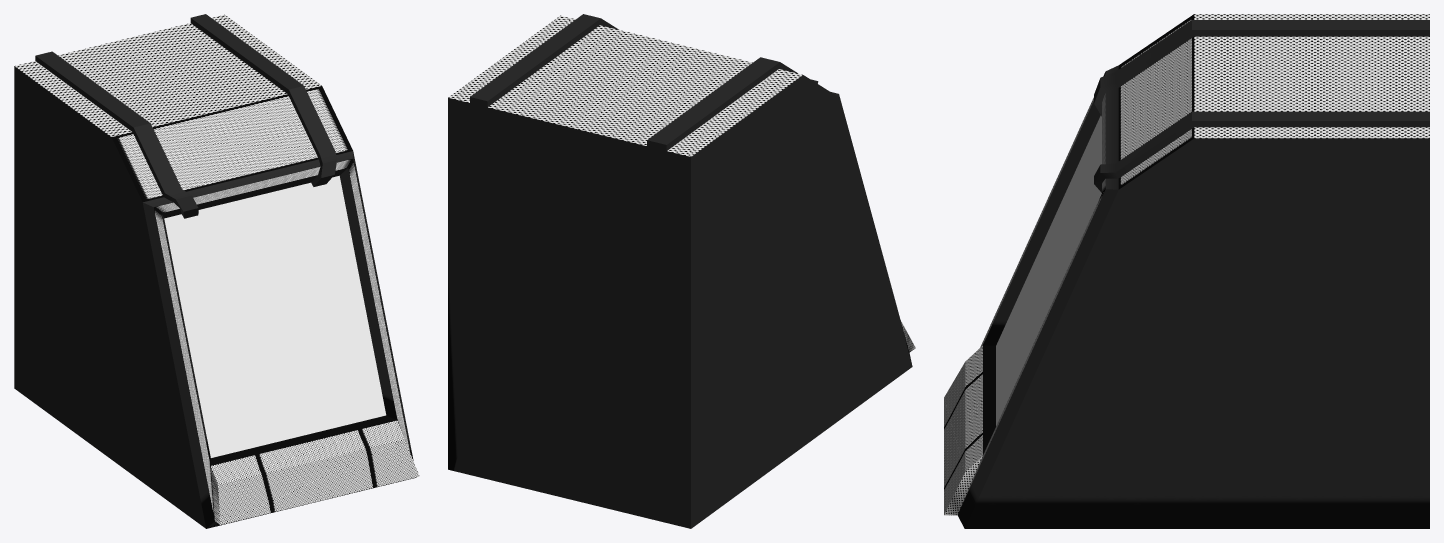
Rendered from StructureLight08_Art.fbx.
3 renders of one model, left to right at view 1: azimuth 30°, elevation 25°; view 2: azimuth 150°, elevation 25°; view 3: azimuth 270°, elevation 25°, orthographic. The views are drawn at different scales.
Visible parts, largest first — view 1: StructureLight08_Art; view 2: StructureLight08_Art; view 3: StructureLight08_Art.
Boxes of the visible parts, left/top/right/bottom form: StructureLight08_Art: left=14, top=14, right=419, bottom=528; StructureLight08_Art: left=448, top=14, right=915, bottom=528; StructureLight08_Art: left=944, top=14, right=1429, bottom=528.
Size of the model in its own units: 0.671 by 0.9976 by 1.11.
